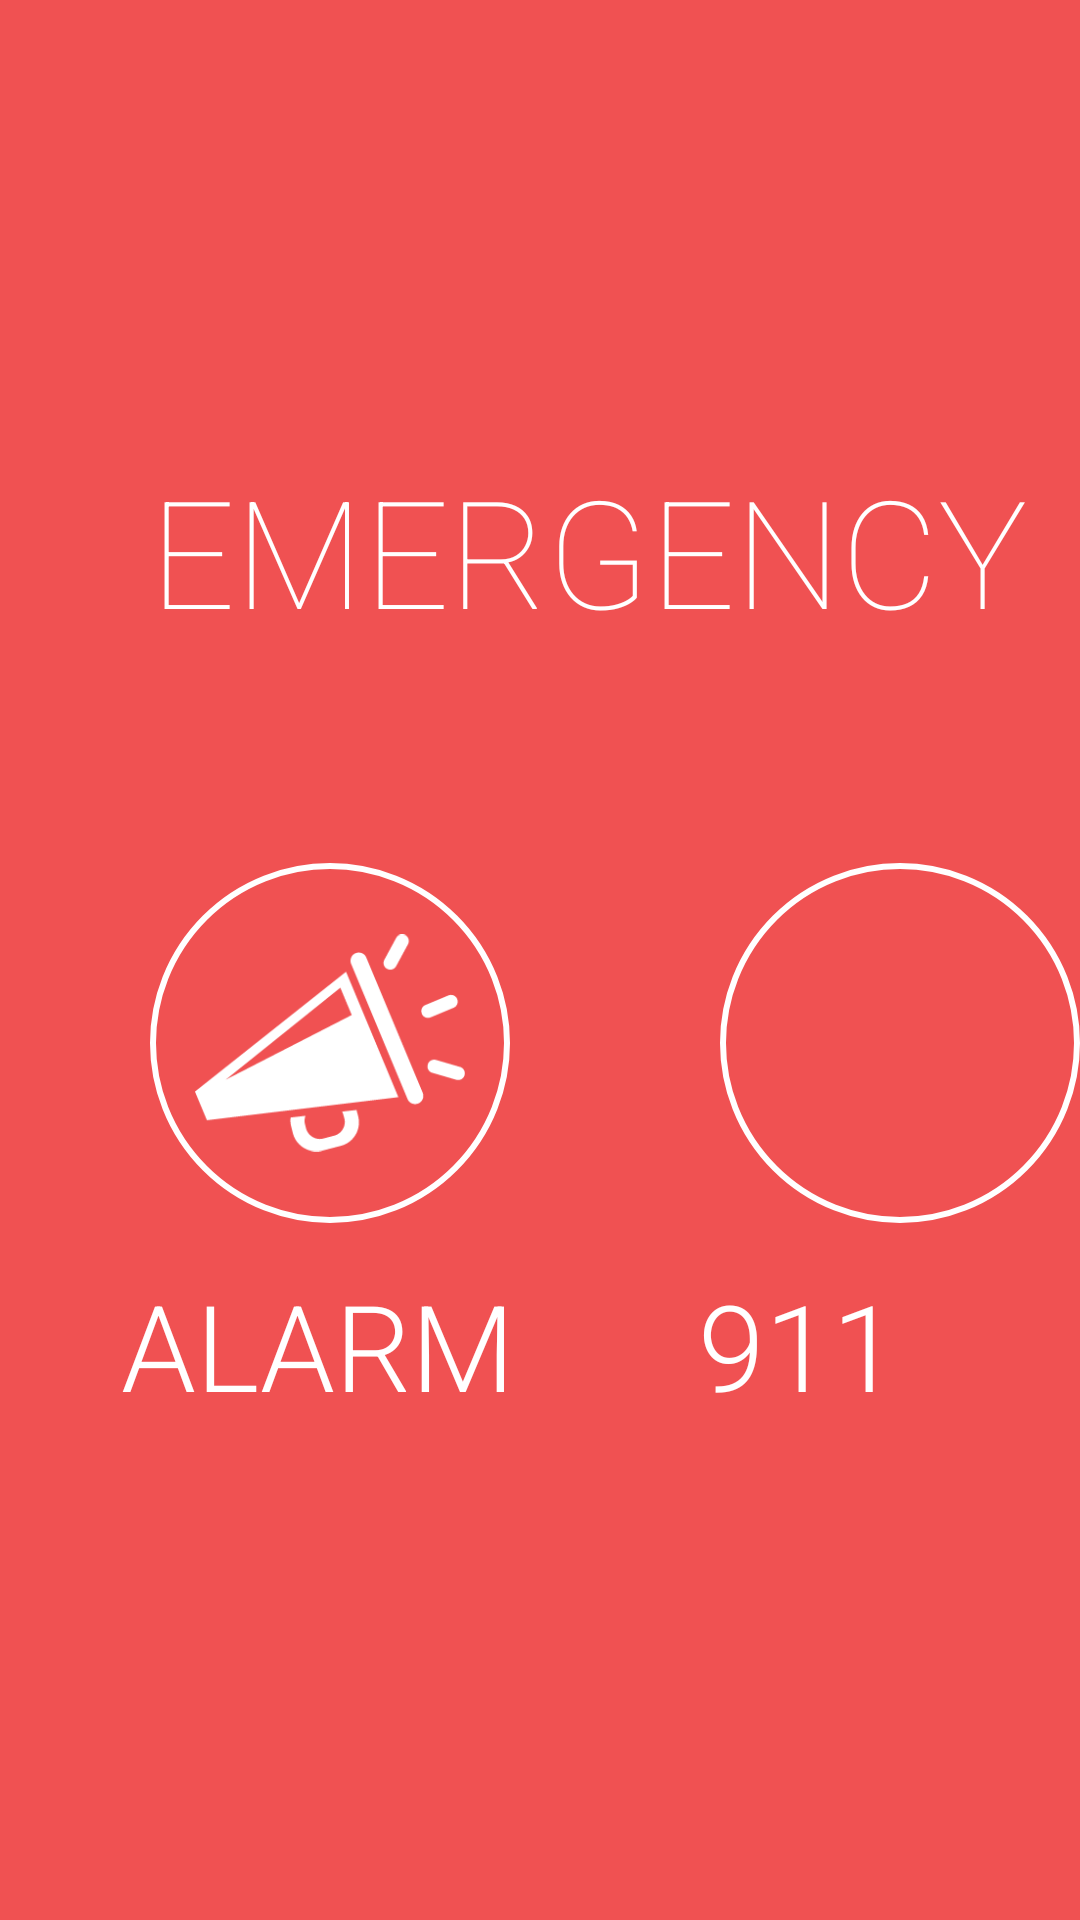

Where icons sit on this 1080x1920 app screen, as (x1, y1, x2, y2):
mega phone: (150, 863, 510, 1223)
